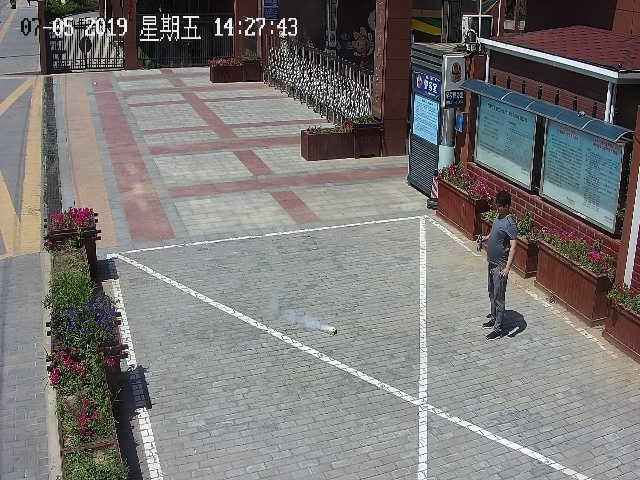yanwu: (264, 295, 329, 332)
